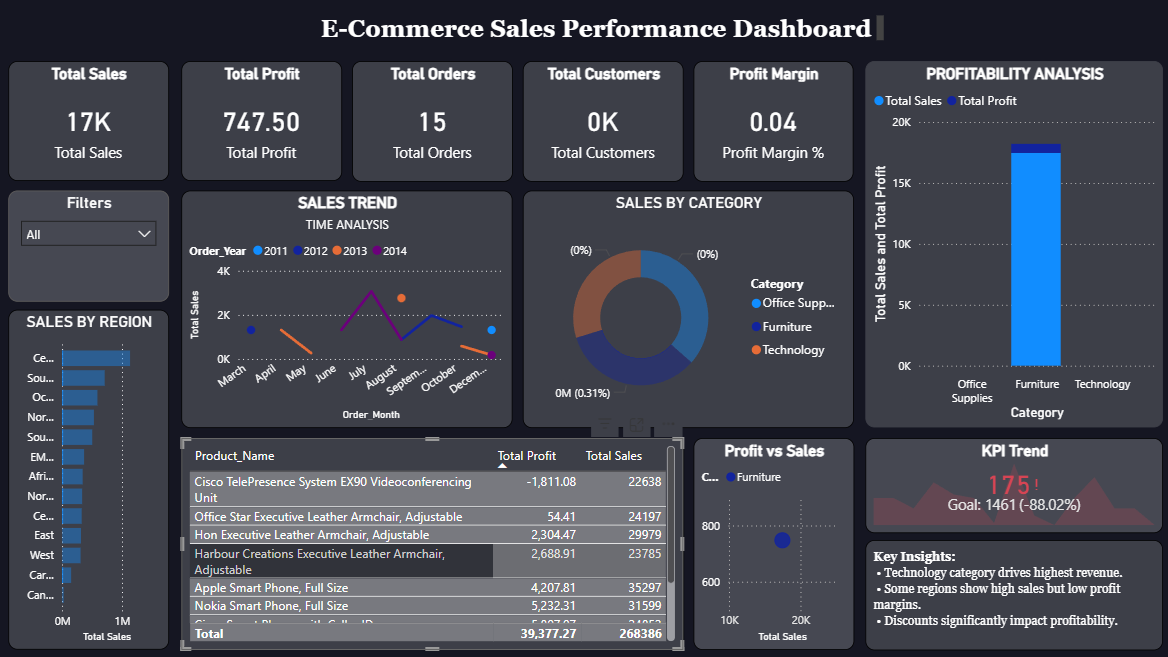

The dashboard page shown, as its layout file describes it:
{"tool":"powerbi","page":{"name":"Page 1","canvas":[1280,720],"ordinal":0},"visuals":[{"type":"card","title":"Total Sales","fields":{"Values":["superstore.Total Sales"]},"box":[11.2,68.8,175,131.2],"z":0},{"type":"card","title":"Total Profit","fields":{"Values":["superstore.Total Profit"]},"box":[200,68.8,175,131.2],"z":1000},{"type":"card","title":"Total Orders","fields":{"Values":["superstore.Total Orders"]},"box":[386.2,68.5,175.4,131.5],"z":2000},{"type":"card","title":"Total Customers","fields":{"Values":["superstore.Total Customers"]},"box":[572.3,68.5,175.4,131.5],"z":3000},{"type":"card","title":"Profit Margin","fields":{"Values":["superstore.Profit Margin %"]},"box":[759.3,68.6,174.3,131.4],"z":4000},{"type":"lineChart","title":"SALES TREND","fields":{"Category":["superstore.Order_Month"],"Y":["superstore.Total Sales"],"Series":["superstore.Order_Year"]},"box":[200,210,360.9,259.1],"z":5000},{"type":"donutChart","title":"SALES BY CATEGORY","fields":{"Category":["superstore.Category"],"Y":["superstore.Total Sales"]},"box":[572.7,210,360.9,259.1],"z":6000},{"type":"barChart","title":"SALES BY REGION","fields":{"Category":["superstore.Region"],"Y":["superstore.Total Sales"]},"box":[11,340,175,371],"z":7000},{"type":"columnChart","title":"PROFITABILITY ANALYSIS","fields":{"Category":["superstore.Category"],"Y":["superstore.Total Sales","superstore.Total Profit"]},"box":[946,69,325,400],"z":8000},{"type":"tableEx","fields":{"Values":["superstore.Product_Name","superstore.Total Profit","superstore.Total Sales"]},"box":[200,480,548,231],"z":9000},{"type":"textbox","box":[946,591,325,120],"z":10000},{"type":"textbox","box":[347.5,13.8,623.8,38.8],"z":11000},{"type":"slicer","title":"Filters","fields":{"Values":["superstore.Order_Year","superstore.Region","superstore.Category"]},"box":[11.2,210,175,121.2],"z":12000},{"type":"kpi","title":"KPI Trend","fields":{"Indicator":["superstore.Total Sales"],"TrendLine":["superstore.Order_Date"],"Goal":["CountNonNull(superstore.Order_Date.Variation.Date Hierarchy.Year)"]},"box":[946.4,480,325,104.3],"z":12001},{"type":"scatterChart","title":"Profit vs Sales","fields":{"X":["superstore.Total Sales"],"Y":["superstore.Total Profit"],"Category":["superstore.Product_Name"],"Size":["superstore.Total Quantity"],"Series":["superstore.Category"]},"box":[759,480,175,231],"z":12002}]}

Visuals, with their boxes in screenshot pixels (x1, y1, x2, y2), scaled from the page's 1280x720 canvas onto the 1168x657 screenshot:
"Total Sales" card: 10:63:170:182
"Total Profit" card: 182:63:342:182
"Total Orders" card: 352:63:512:182
"Total Customers" card: 522:63:682:182
"Profit Margin" card: 693:63:852:182
"SALES TREND" lineChart: 182:192:512:428
"SALES BY CATEGORY" donutChart: 523:192:852:428
"SALES BY REGION" barChart: 10:310:170:649
"PROFITABILITY ANALYSIS" columnChart: 863:63:1160:428
tableEx - superstore.Product_Name x superstore.Total Profit: 182:438:683:649
textbox: 863:539:1160:649
textbox: 317:13:886:48
"Filters" slicer: 10:192:170:302
"KPI Trend" kpi: 864:438:1160:533
"Profit vs Sales" scatterChart: 693:438:852:649
